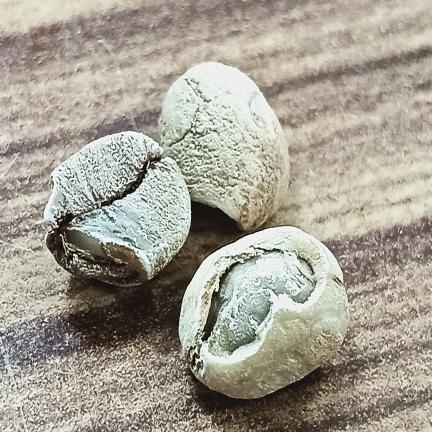cut: (178, 226, 349, 399), (44, 131, 191, 286), (159, 62, 290, 230)
